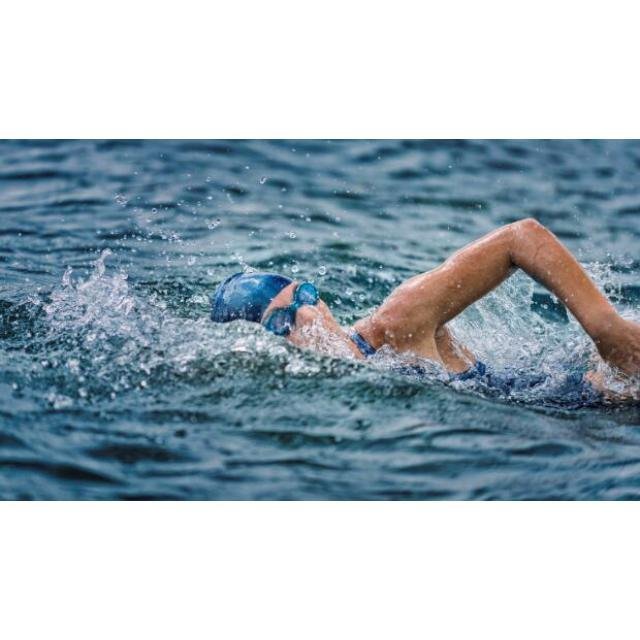human: (215, 216, 639, 400)
